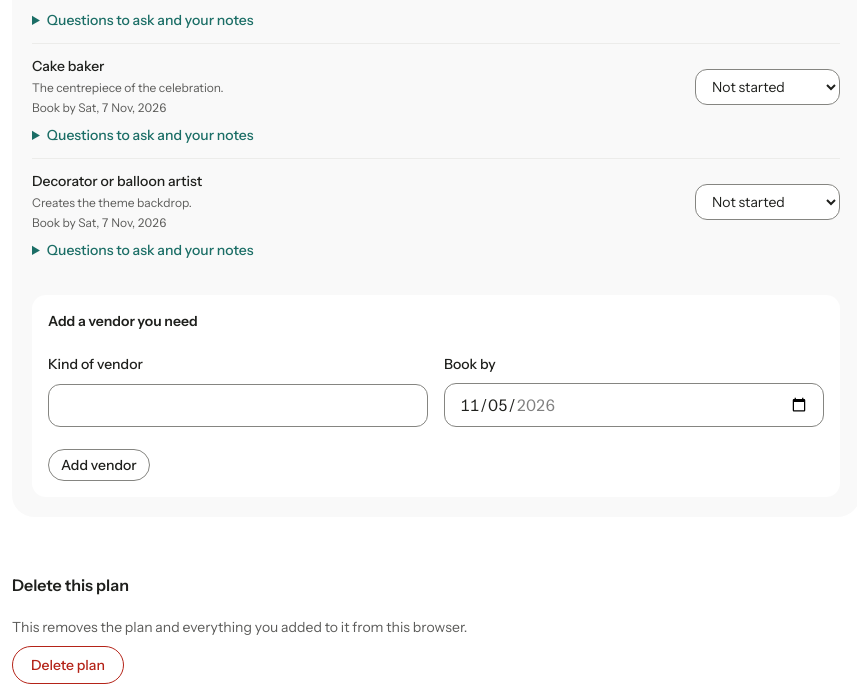
Test: things going wrong › asks for a book-by date when it is cleared
(page scrolled)
Type "Magician" into the field labelled "Kind of vendor" at (238, 406), box [48,384,428,427]
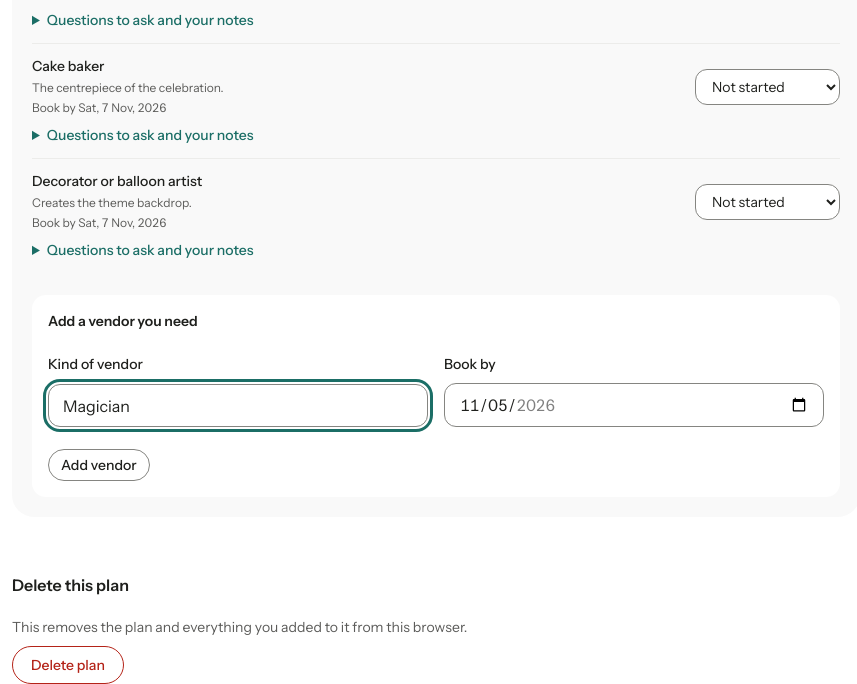
Clear the date field labelled "Book by" at (634, 405), box [444,383,824,427]
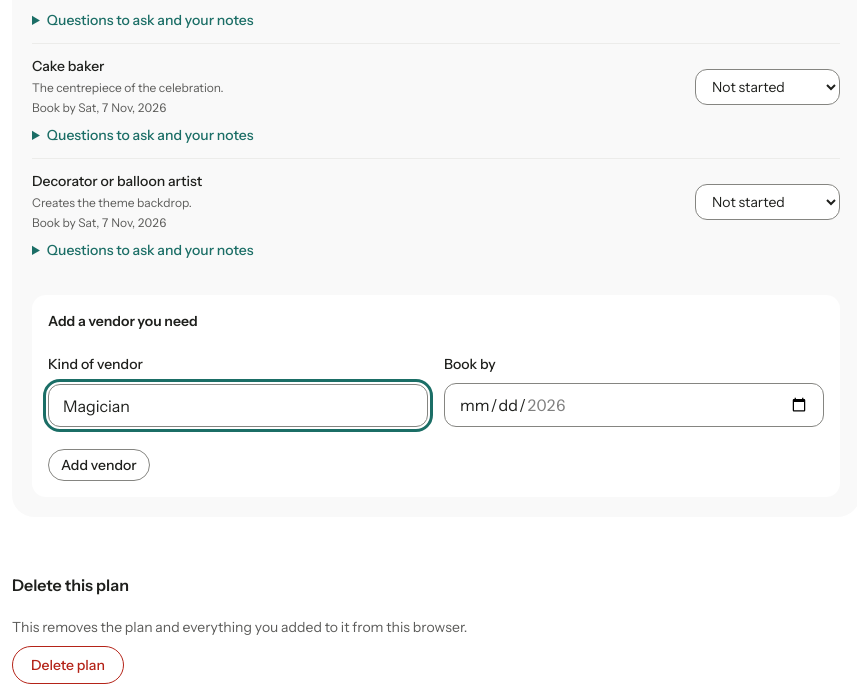
Click the button "Add vendor" at (99, 465), box [48,449,150,481]
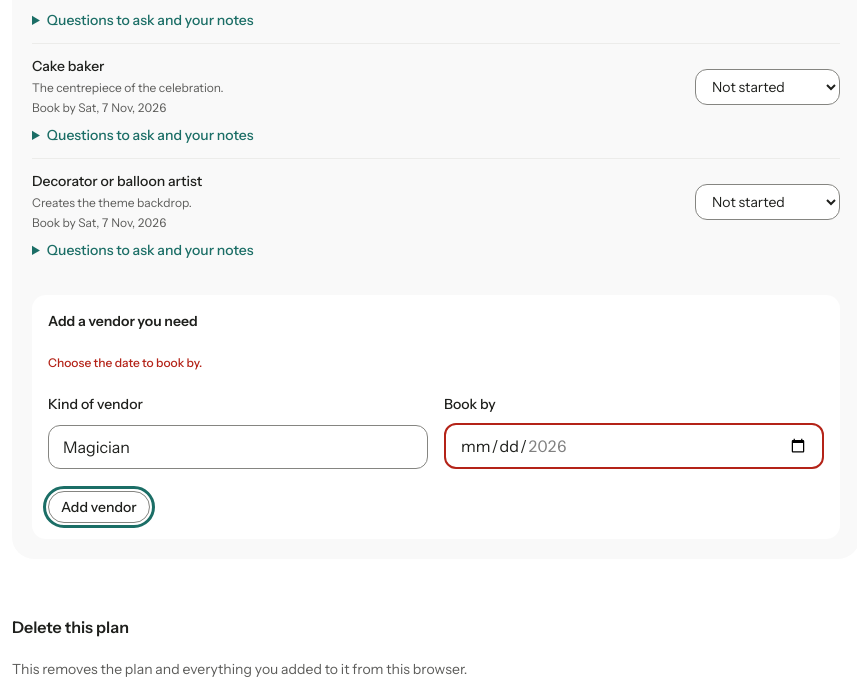
Now the message reads "Choose the date to book by.", box [48,355,202,370]
